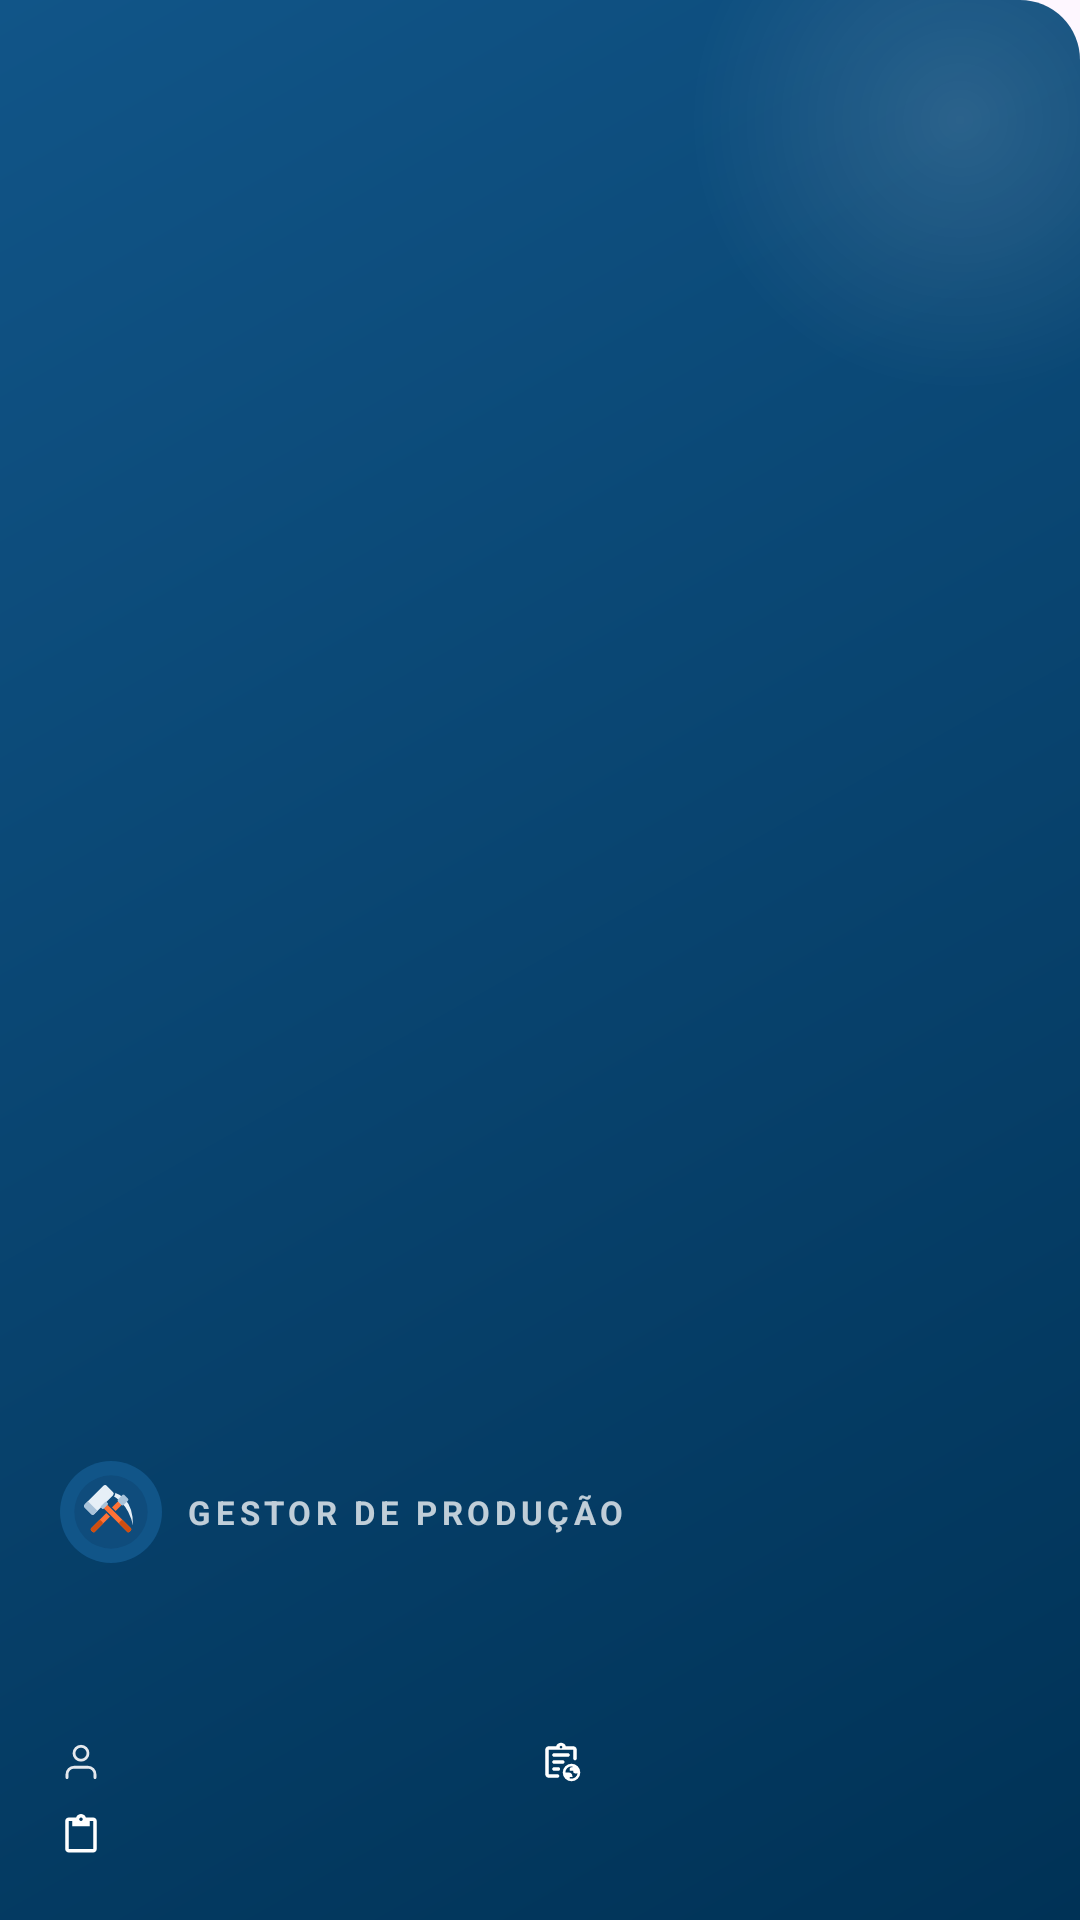

Screen size 1080px x 1920px. Icon name, then its box in pixels as [x1,y1,x2,y2]:
person: [65,1745,97,1779]
